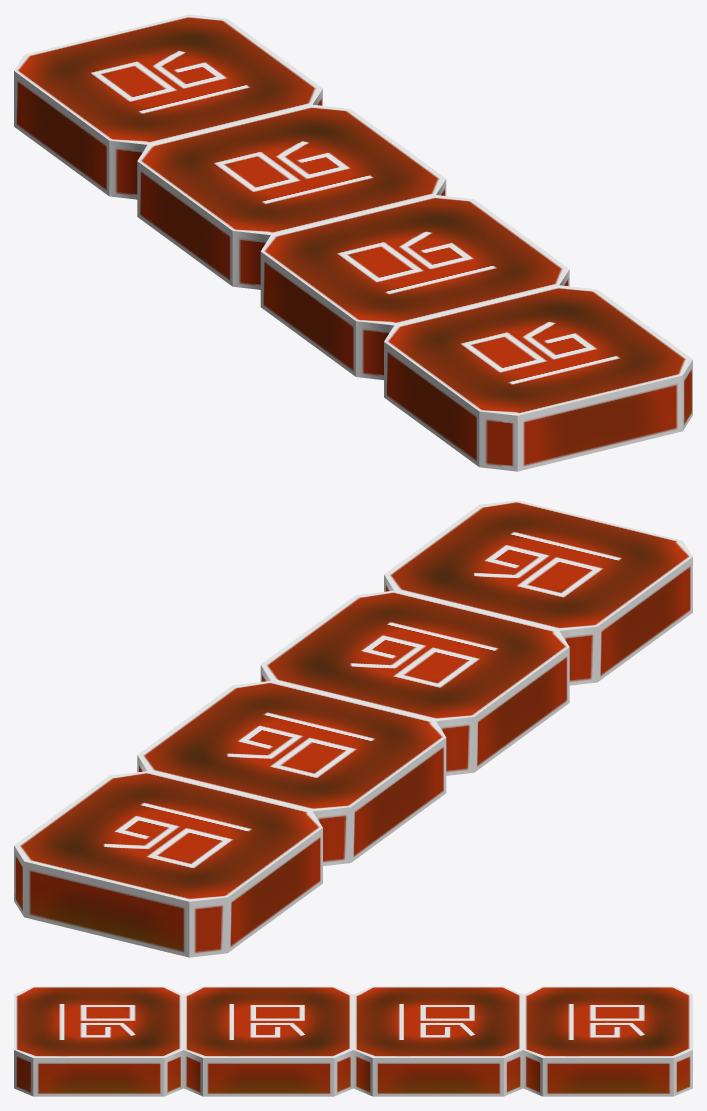
File: MG-ChJ-CS-06PingTaiKuai-4A.FBX
3 renders of one model, top to bottom at view 1: azimuth 30°, elevation 25°; view 2: azimuth 150°, elevation 25°; view 3: azimuth 270°, elevation 25°, orthographic. The views are drawn at different scales.
Visible parts, largest first — view 1: MG-ChJ-CS-06PingTai-4A; view 2: MG-ChJ-CS-06PingTai-4A; view 3: MG-ChJ-CS-06PingTai-4A.
Part boxes in pixels (bbox=[...]): MG-ChJ-CS-06PingTai-4A: bbox=[14, 14, 692, 471]; MG-ChJ-CS-06PingTai-4A: bbox=[14, 500, 692, 957]; MG-ChJ-CS-06PingTai-4A: bbox=[14, 986, 692, 1096].
Size of the model in its own units: 39.37 by 9.84 by 157.
